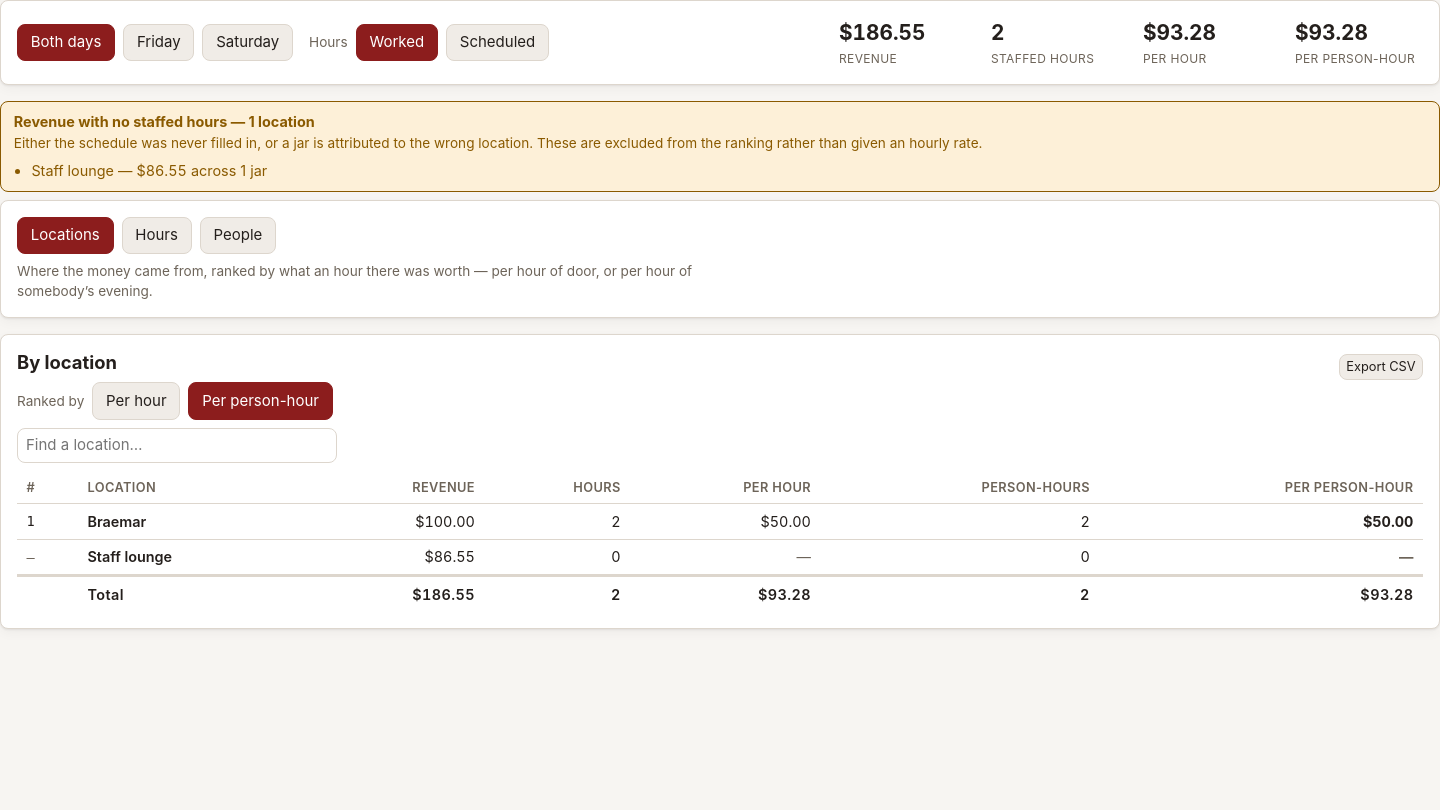
Scenario: the by-hour breakdown › keeps money with no shift out of the hours but inside the total
The width and height of the screenshot is (1440, 810).
Click the tab "Hours" at (157, 236), box [122,217,192,254]
(page scrolled)
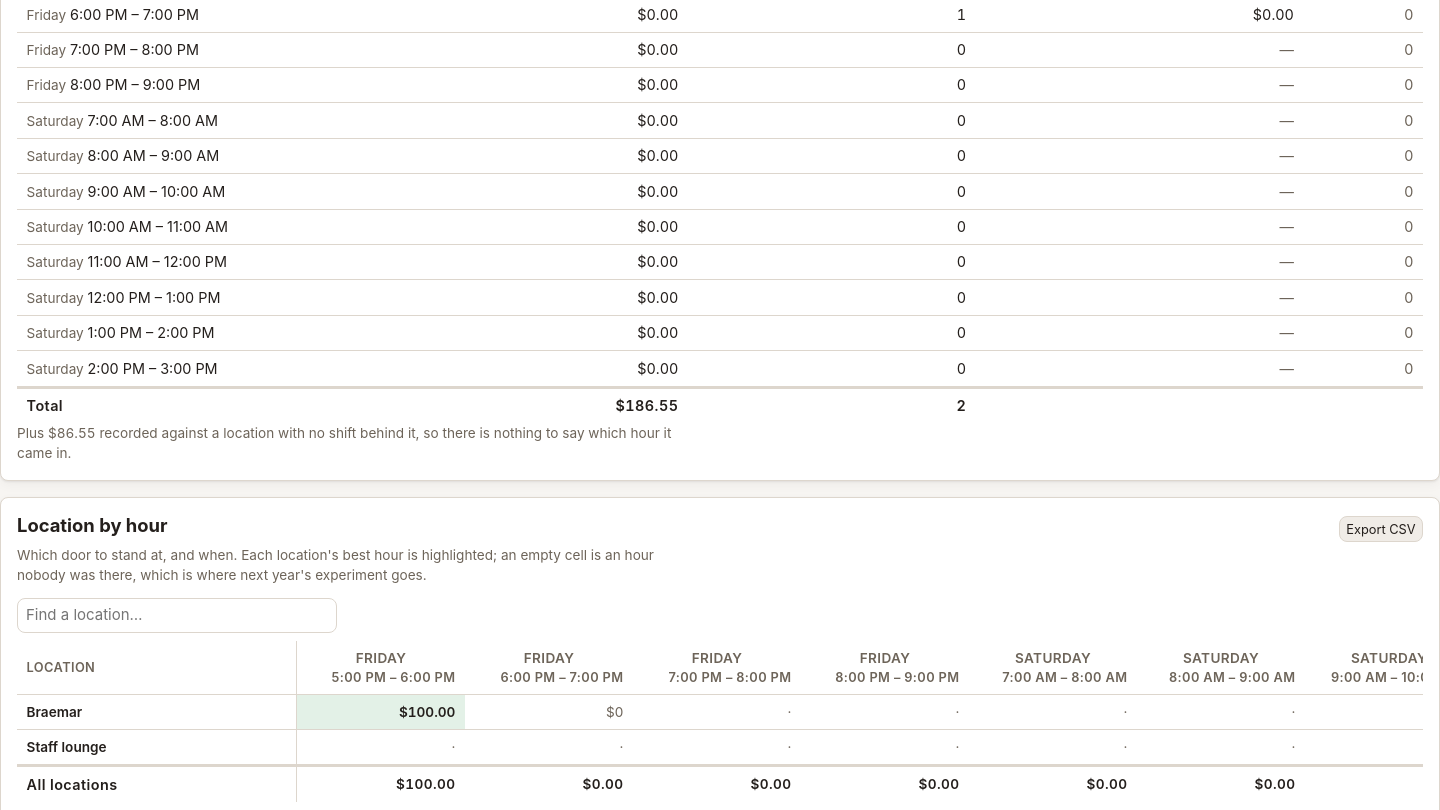
Expected: the text "$186.55" is shown, [616,397,678,414]
Now the text "nothing to say which hour it came in" is shown, box [17,425,671,461]
